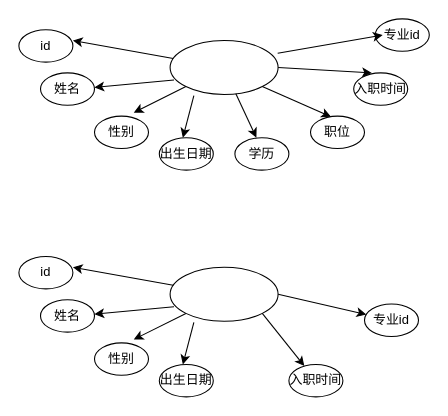
The diagram is 448 pixels wide and 416 high, and some of its shapes have lost their labels. The shapes that lost their labels are listed below. From the top down, each one's centre as x and y in pixels, then its label:
(223,66): 教师
(223,293): 学生
